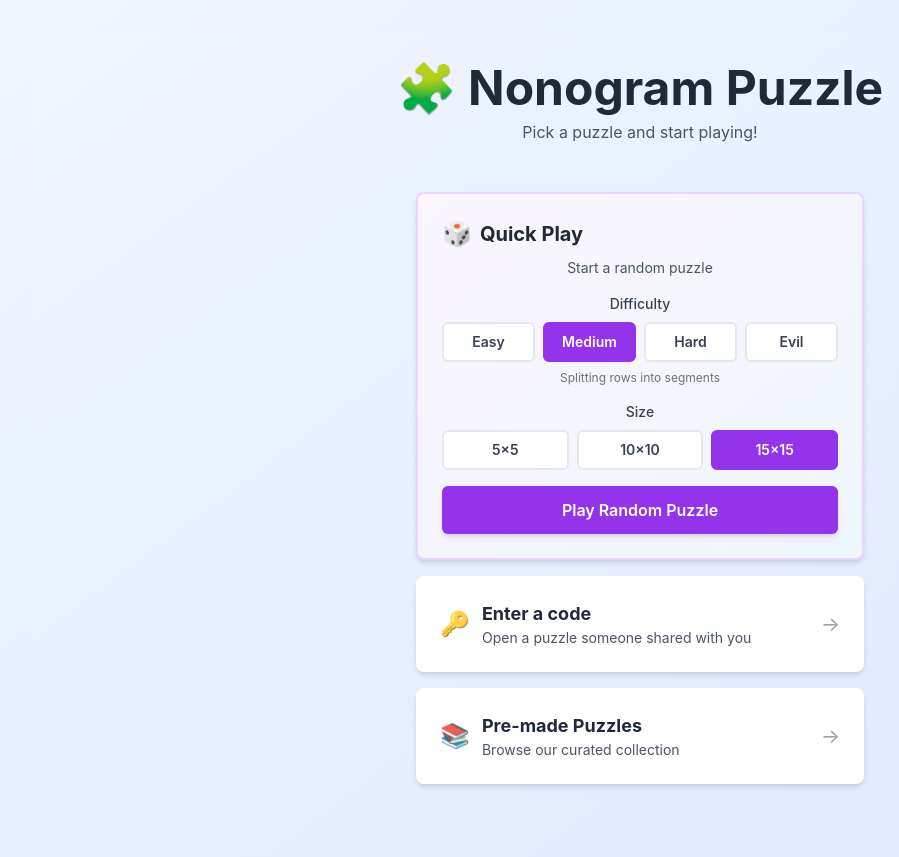
Test: LandingPage › says so when nothing could be generated
The width and height of the screenshot is (899, 857).
Click the button "Play Random Puzzle".
click(640, 510)  # box [442,486,838,534]
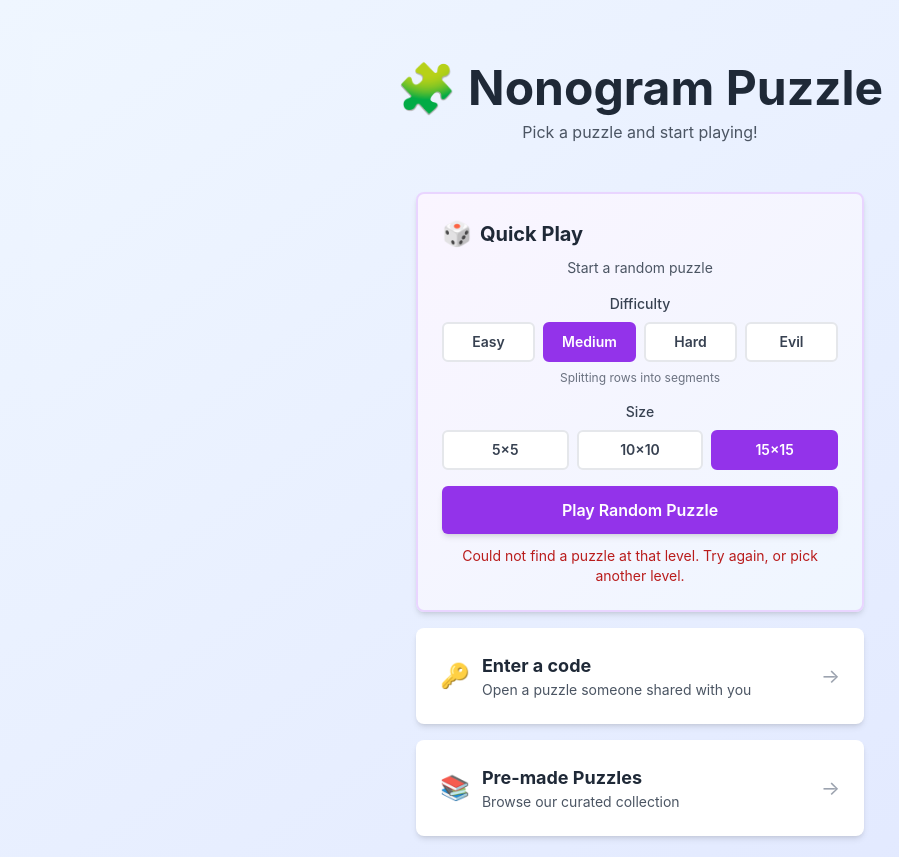
Result: the text "Could not find a puzzle" is shown at [462,547,818,584]
